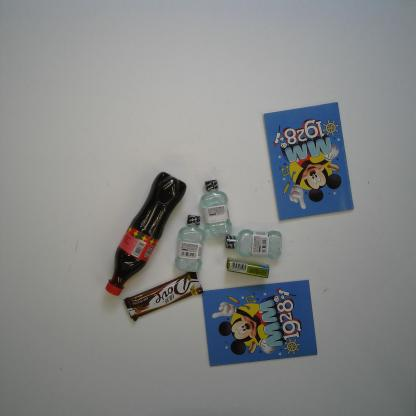Chocolate: (122, 272, 204, 322)
Drink: (104, 170, 188, 298)
Gum: (226, 256, 270, 278)
Personal Hygiene: (200, 178, 233, 238), (173, 214, 206, 273), (223, 229, 282, 259)
Stationery: (262, 101, 354, 222), (201, 280, 318, 367)
